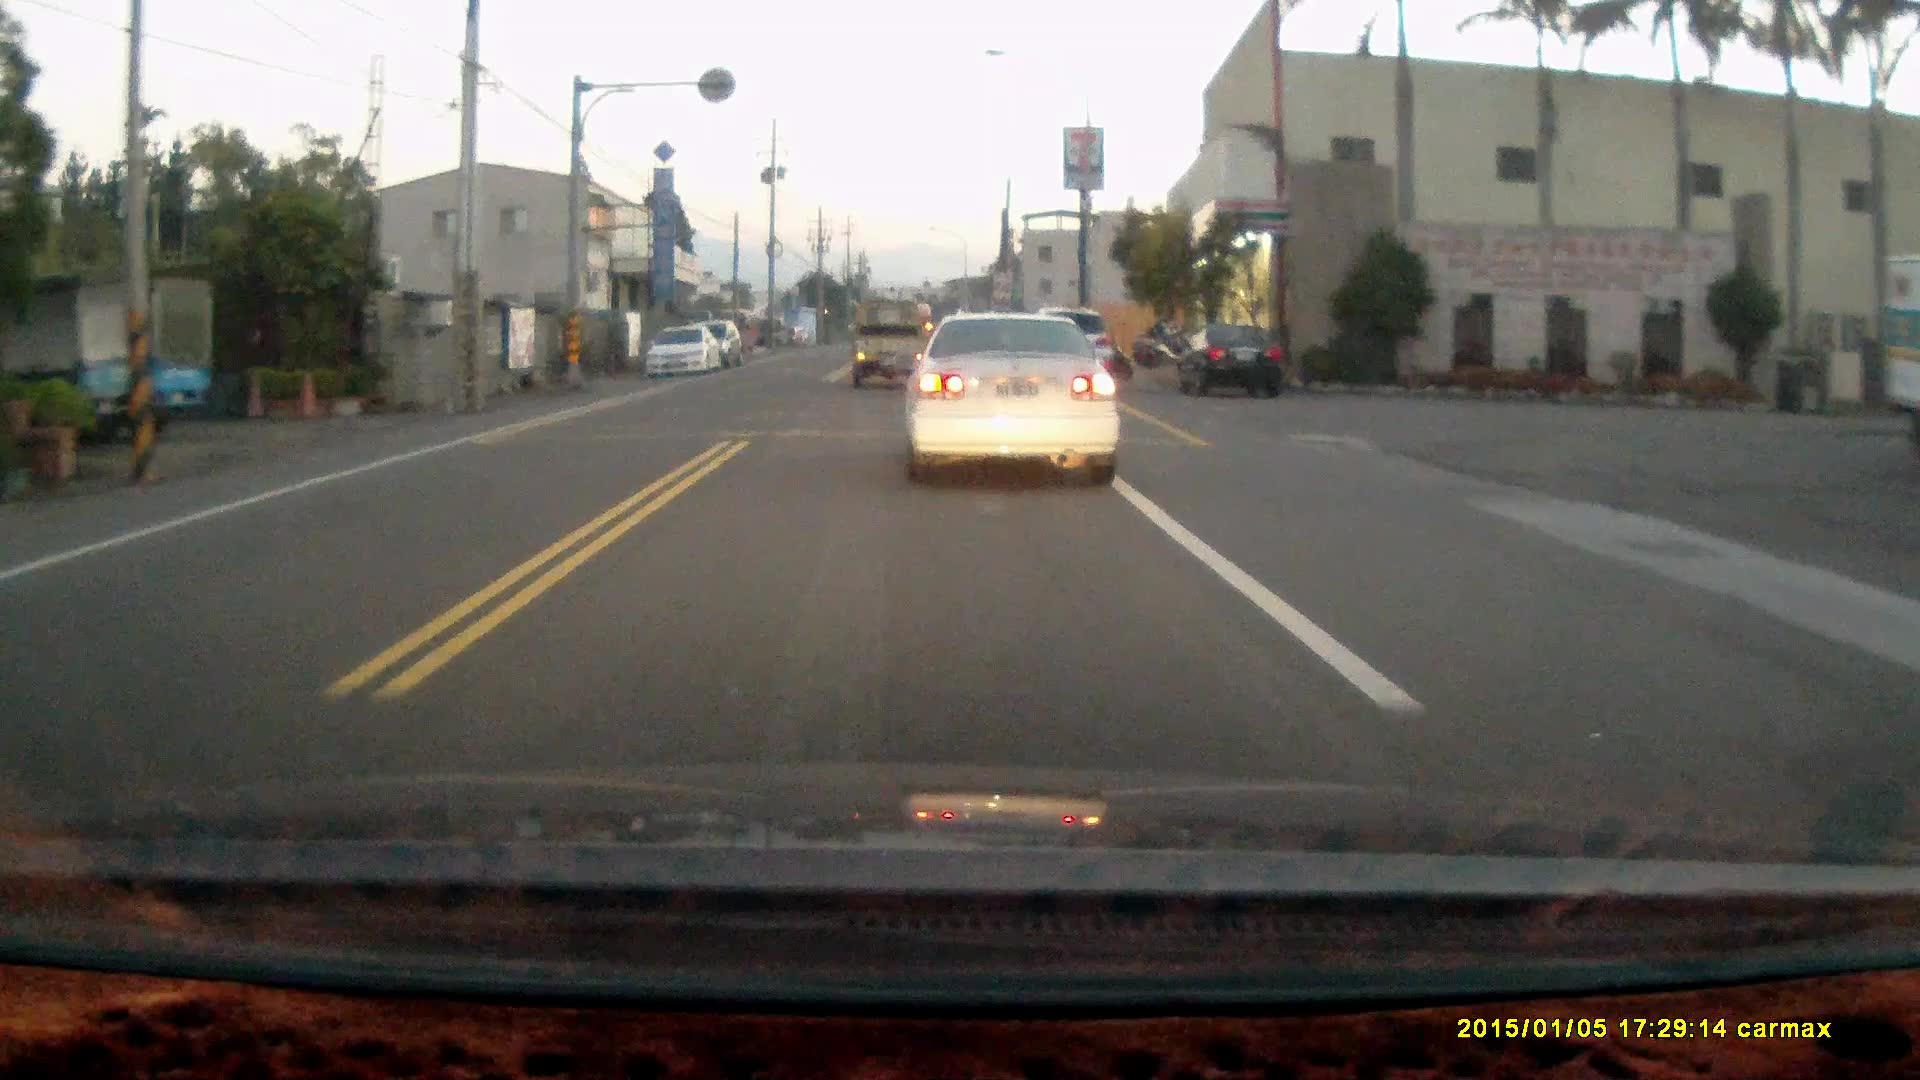vehicle: (910, 311, 1127, 492), (1172, 320, 1283, 400), (847, 293, 931, 381), (640, 322, 724, 376)
